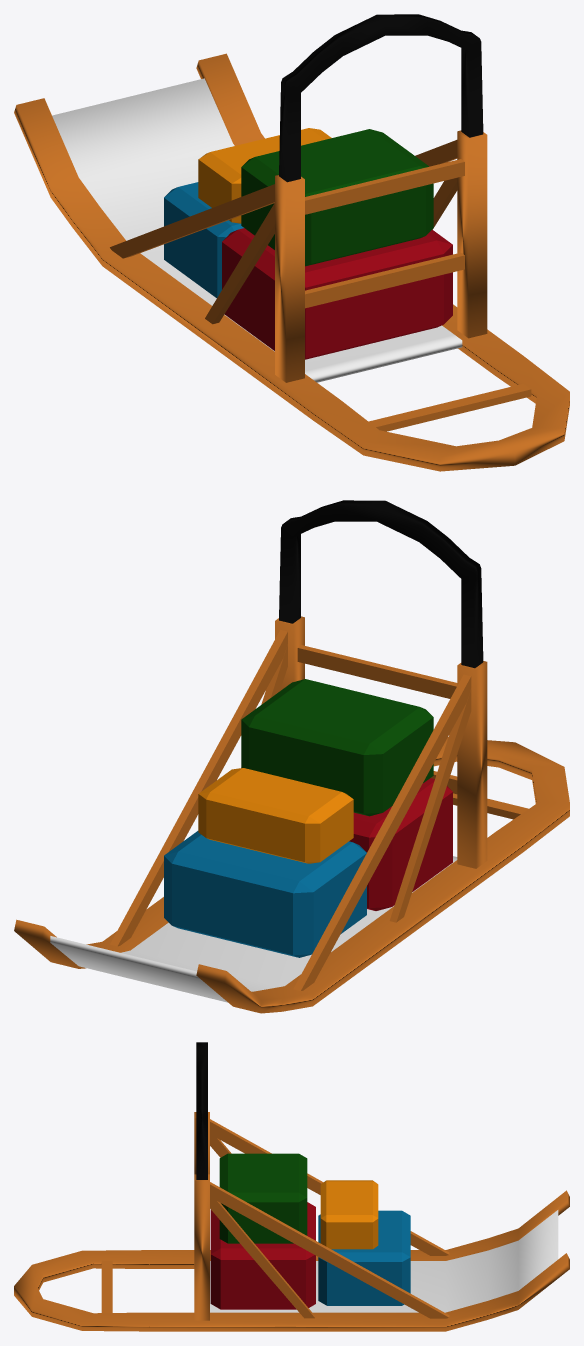
File: Dog_Sledge.fbx
3 renders of one model, top to bottom at view 1: azimuth 30°, elevation 25°; view 2: azimuth 150°, elevation 25°; view 3: azimuth 270°, elevation 25°, orthographic. The views are drawn at different scales.
Visible parts, largest first — view 1: Cube.087; view 2: Cube.087; view 3: Cube.087.
Part boxes in pixels (box(x1,y1,x2,y2)): Cube.087: box(14, 14, 569, 471); Cube.087: box(14, 500, 569, 1013); Cube.087: box(14, 1042, 569, 1331).
Bounding box in the file's own units: 102 × 163 × 333.
